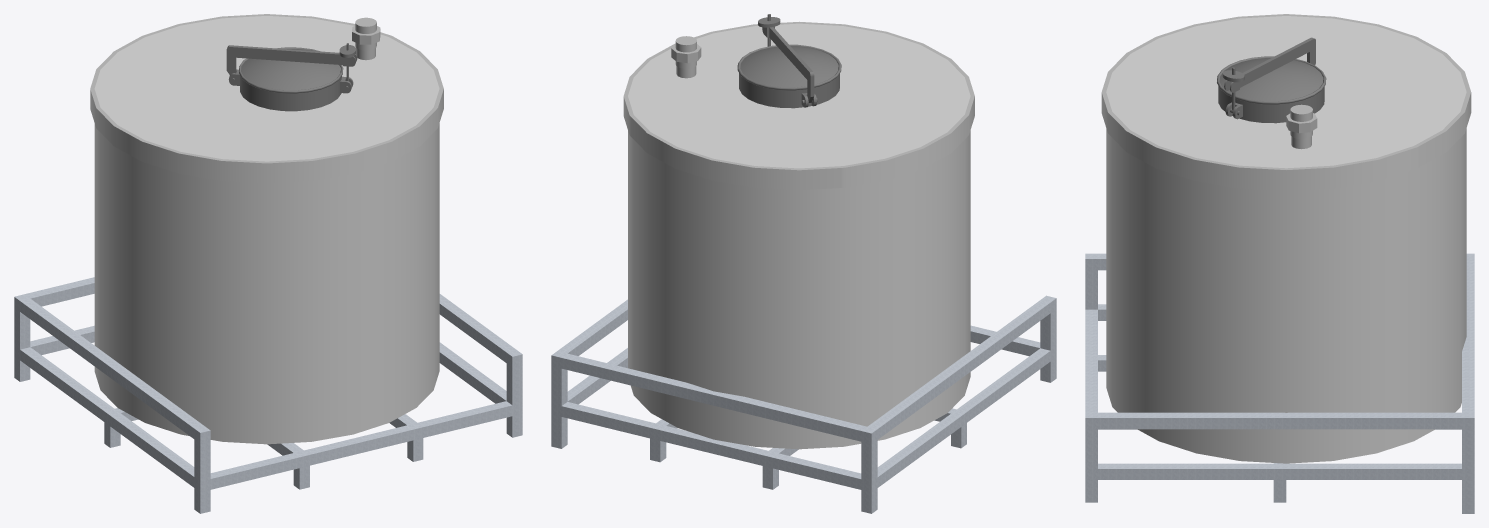
The model's file is stage6_3.glb.
3 views of the same model, side by side, from view 1: azimuth 30°, elevation 25°; view 2: azimuth 150°, elevation 25°; view 3: azimuth 270°, elevation 25° (orthographic). The views are drawn at different scales.
Visible parts, largest first — view 1: CuveADDITIFS#1, object 1, PORTE#1, RaccordDn50; view 2: CuveADDITIFS#1, object 1, PORTE#1, RaccordDn50; view 3: CuveADDITIFS#1, object 1, PORTE#1, RaccordDn50.
Boxes of the visible parts, x1=… form: CuveADDITIFS#1: x1=90, y1=14, x2=443, y2=444; object 1: x1=14, y1=277, x2=522, y2=513; PORTE#1: x1=226, y1=43, x2=357, y2=111; RaccordDn50: x1=352, y1=17, x2=380, y2=50; CuveADDITIFS#1: x1=623, y1=21, x2=974, y2=449; object 1: x1=551, y1=295, x2=1056, y2=513; PORTE#1: x1=737, y1=14, x2=841, y2=108; RaccordDn50: x1=671, y1=36, x2=701, y2=68; CuveADDITIFS#1: x1=1101, y1=14, x2=1471, y2=463; object 1: x1=1085, y1=253, x2=1474, y2=513; PORTE#1: x1=1217, y1=37, x2=1326, y2=123; RaccordDn50: x1=1286, y1=104, x2=1317, y2=138.
Size of the model in its own units: 1.25 by 1.39 by 1.25.
4 materials, 1 textured.
